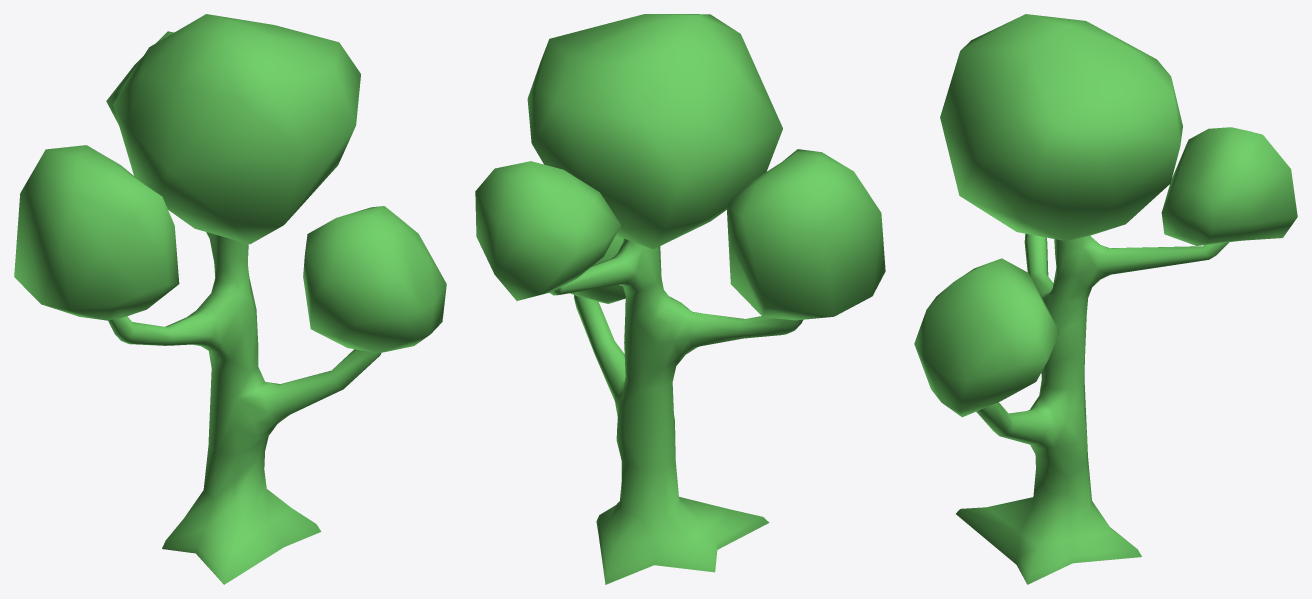
The model's file is TreeAsset_5_instanced_l2_superhigh.glb.
The picture shows the model from 3 angles, left to right: view 1: azimuth 30°, elevation 25°; view 2: azimuth 150°, elevation 25°; view 3: azimuth 270°, elevation 25°; orthographic projection. The views are drawn at different scales.
Visible parts, largest first — view 1: Plane.002; view 2: Plane.002; view 3: Plane.002.
Part boxes in pixels (left/top/right/bottom): Plane.002: left=14, top=14, right=446, bottom=584; Plane.002: left=475, top=14, right=885, bottom=584; Plane.002: left=914, top=14, right=1297, bottom=584.
Bounding box in the file's own units: 14.75 × 19.76 × 13.01.
